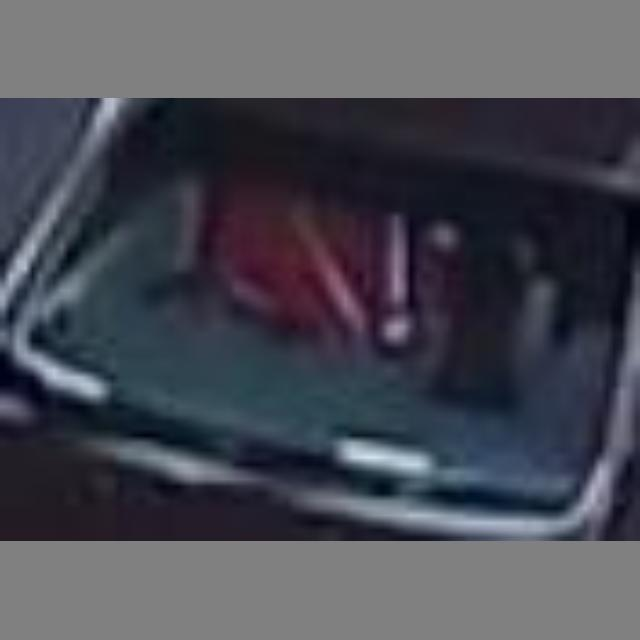pakai: (196, 134, 436, 396)
